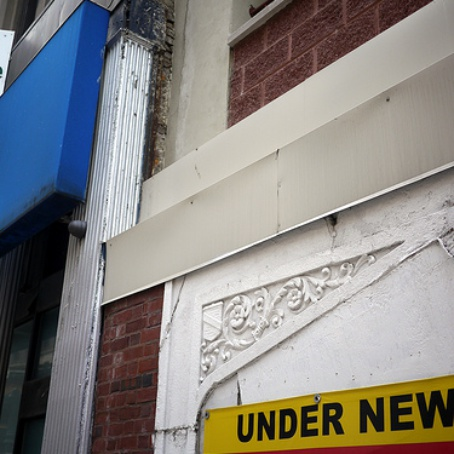building: (2, 1, 454, 447)
sign: (196, 369, 454, 454)
